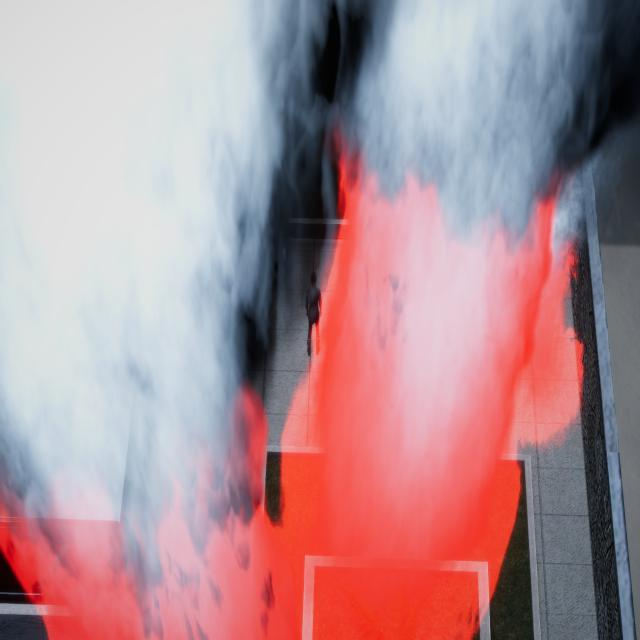Human: (298, 257, 329, 364)
